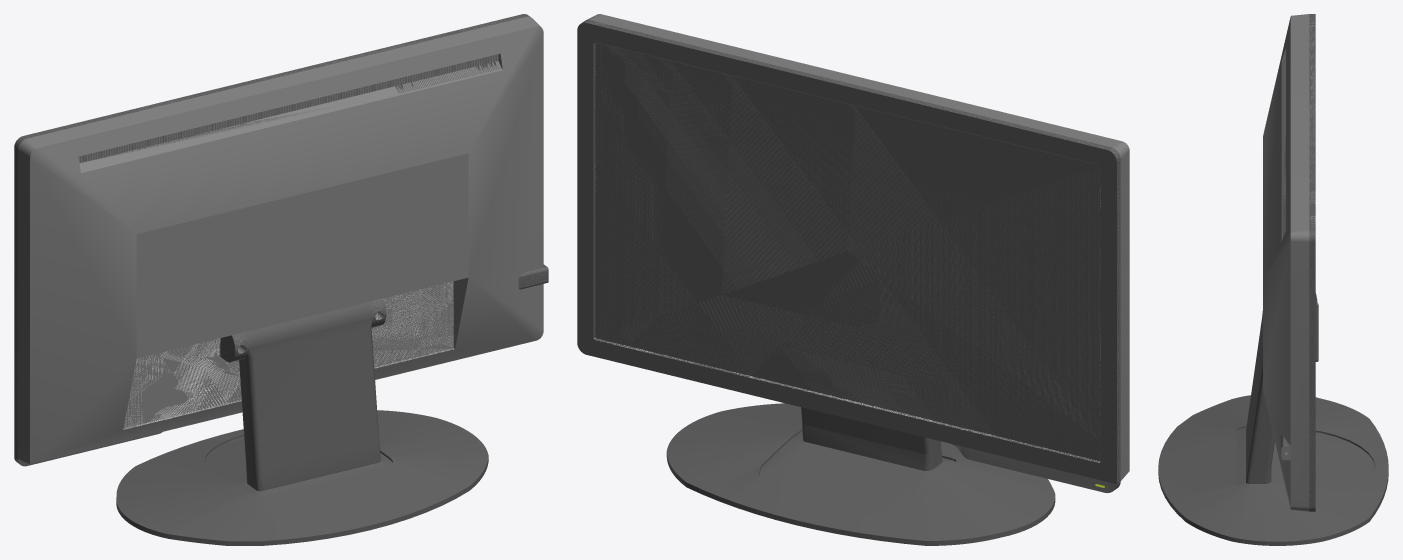
Rendered from monitor.dae.
The picture shows the model from 3 angles, left to right: view 1: azimuth 30°, elevation 25°; view 2: azimuth 150°, elevation 25°; view 3: azimuth 270°, elevation 25°; orthographic projection. The views are drawn at different scales.
Visible parts, largest first — view 1: instance_0_001, instance_0_007, instance_0_004, instance_0_044, instance_0, instance_0_048, instance_0_381, instance_0_002; view 2: instance_0_110, instance_0_007, instance_0_045, instance_0_044, instance_0_048, instance_0_046, instance_0_381, instance_0_009; view 3: instance_0_007, instance_0_044, instance_0_001, instance_0_048, instance_0_381, instance_0.
Boxes of the visible parts, x1,y1,x2,y2 form: instance_0_001: [30, 26, 543, 463]; instance_0_007: [116, 302, 488, 541]; instance_0_004: [123, 281, 454, 429]; instance_0_044: [18, 16, 541, 463]; instance_0: [79, 53, 502, 172]; instance_0_048: [14, 14, 529, 458]; instance_0_381: [116, 436, 488, 545]; instance_0_002: [220, 298, 386, 362]; instance_0_110: [595, 42, 1100, 460]; instance_0_007: [666, 403, 1055, 540]; instance_0_045: [577, 22, 1116, 487]; instance_0_044: [586, 14, 1129, 480]; instance_0_048: [581, 20, 1120, 483]; instance_0_046: [593, 42, 1100, 462]; instance_0_381: [666, 453, 1055, 545]; instance_0_009: [952, 444, 1120, 493]; instance_0_007: [1158, 311, 1388, 541]; instance_0_044: [1281, 14, 1309, 511]; instance_0_001: [1263, 17, 1290, 508]; instance_0_048: [1309, 14, 1315, 511]; instance_0_381: [1158, 426, 1388, 545]; instance_0: [1281, 48, 1285, 241].
Bounding box in the file's own units: 0.57 × 0.2491 × 0.4129.
